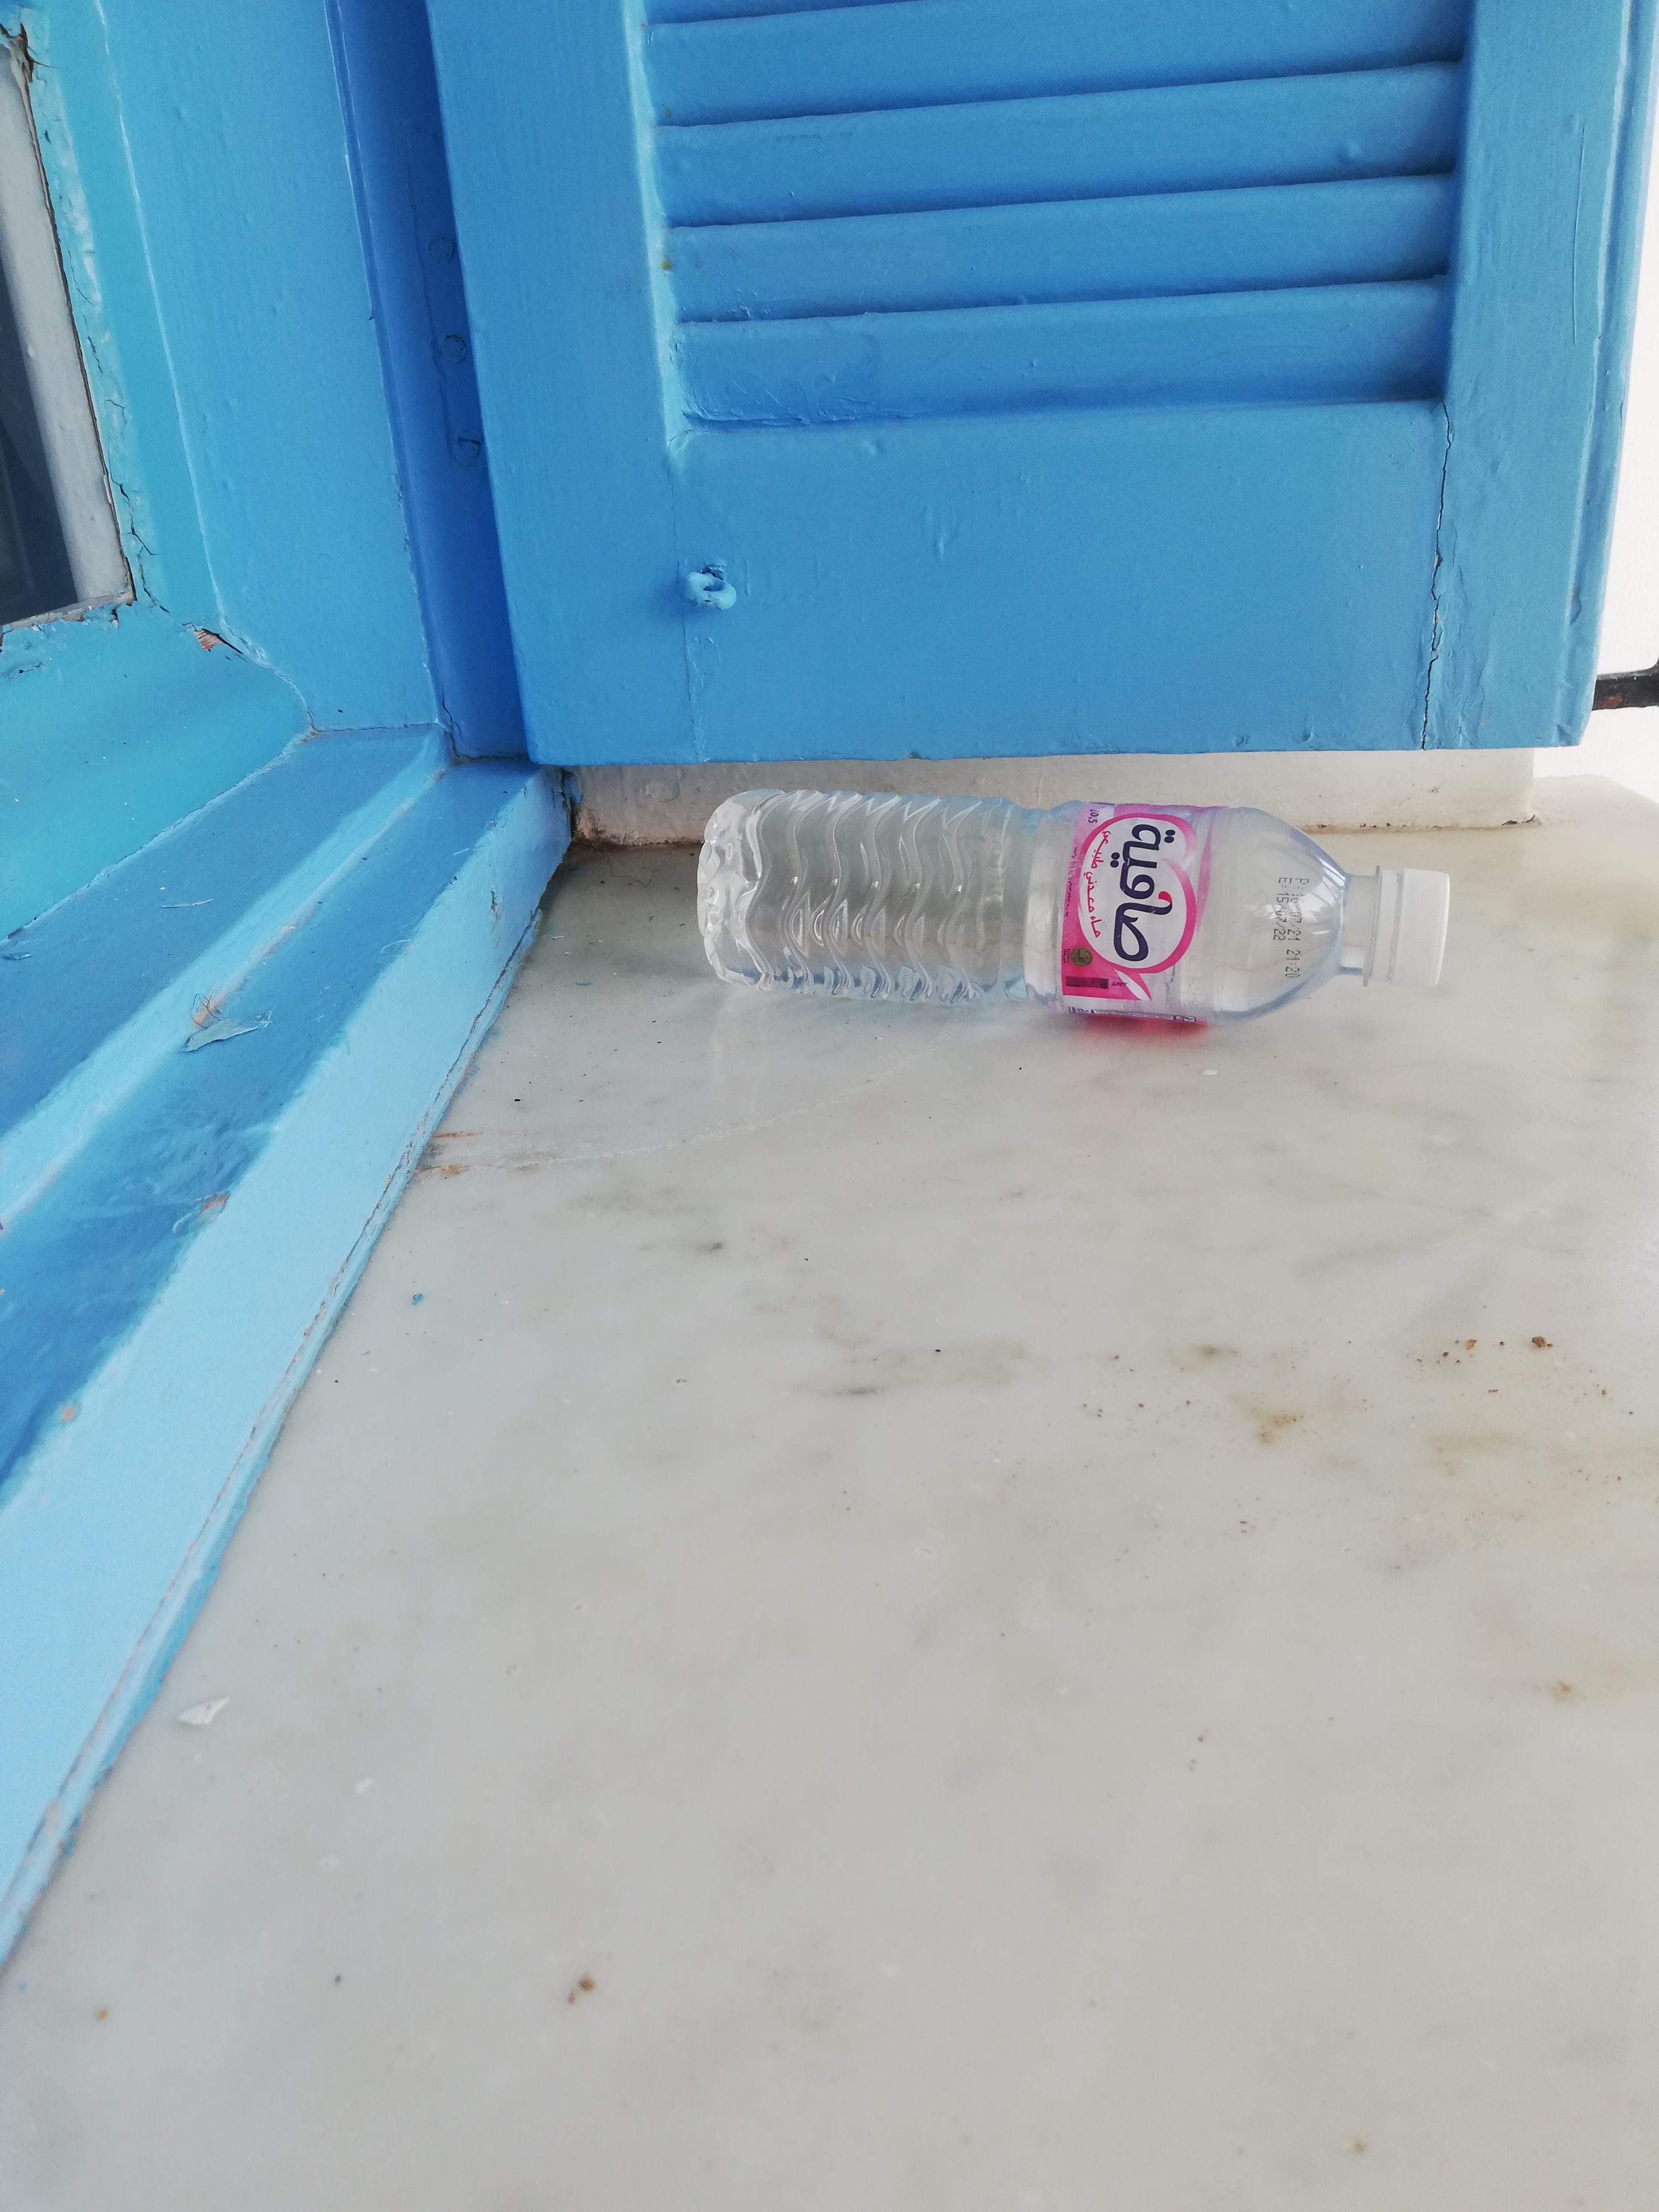Eau safia: (685, 791, 1467, 1028)
